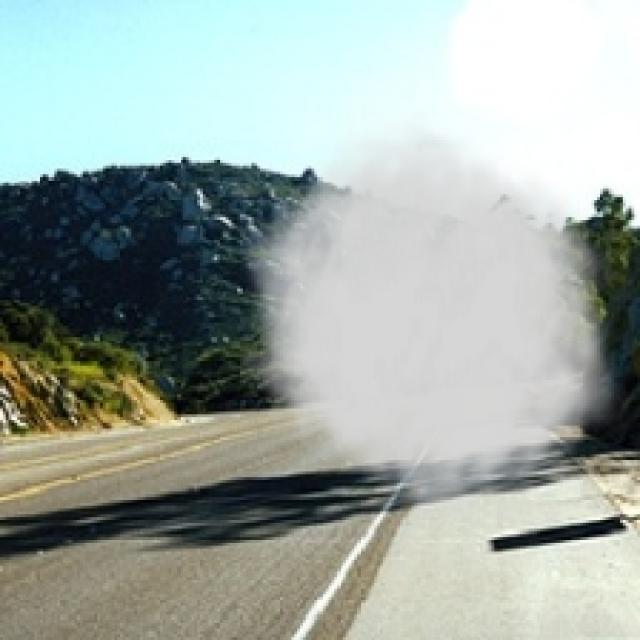Smoke: (239, 111, 632, 528)
